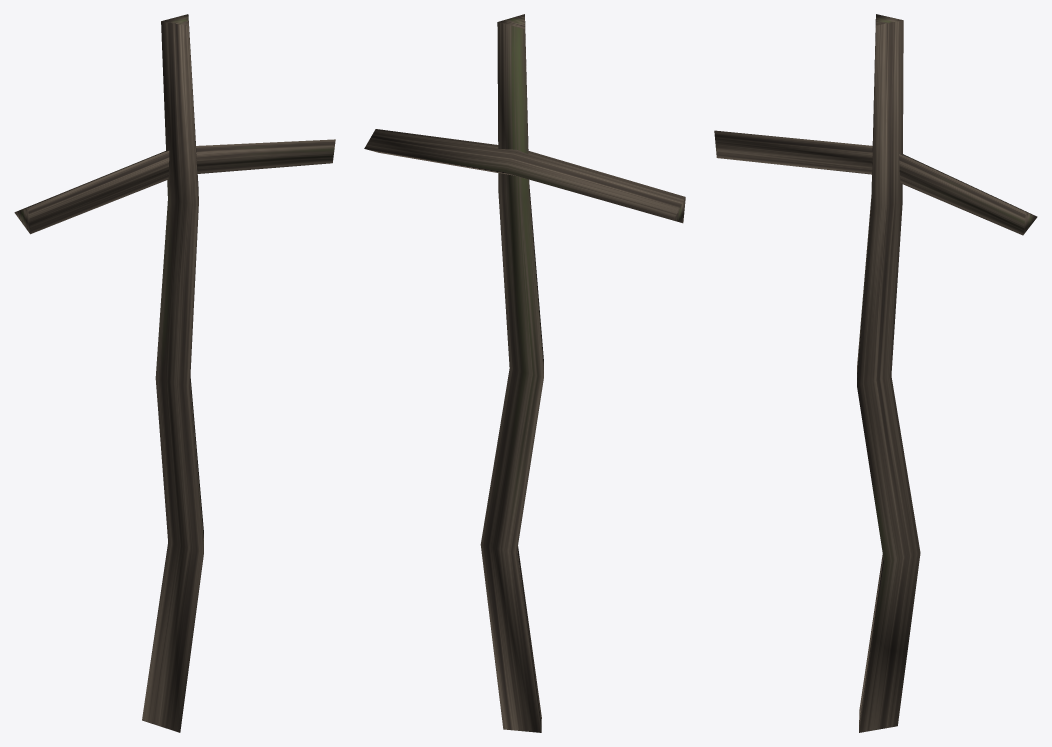
Rendered from Cross_Wood_2_LOD2.gltf.
3 renders of one model, left to right at view 1: azimuth 30°, elevation 25°; view 2: azimuth 150°, elevation 25°; view 3: azimuth 330°, elevation 25°, orthographic.
Visible parts, largest first — view 1: Cross_Wood_2_LOD2; view 2: Cross_Wood_2_LOD2; view 3: Cross_Wood_2_LOD2.
Part boxes in pixels (x1,y1,x2,y2): Cross_Wood_2_LOD2: (14, 14, 335, 732); Cross_Wood_2_LOD2: (364, 14, 685, 732); Cross_Wood_2_LOD2: (714, 14, 1037, 732).
Size of the model in its own units: 0.6253 by 1.36 by 0.1133.
Materials: 1 (1 with a texture image).
